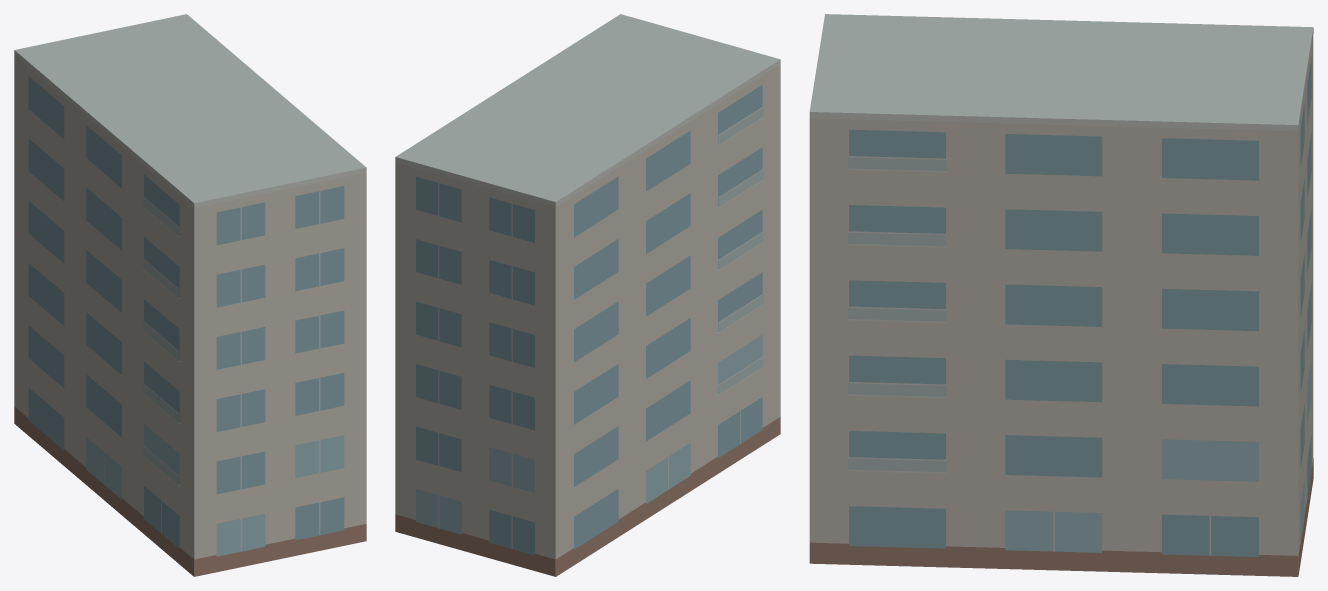
The model's file is survey-upis-32946468.glb.
3 renders of one model, left to right at view 1: azimuth 30°, elevation 25°; view 2: azimuth 150°, elevation 25°; view 3: azimuth 270°, elevation 25°, orthographic. The views are drawn at different scales.
Visible parts, largest first — view 1: survey-upis-32946468.tmp; view 2: survey-upis-32946468.tmp; view 3: survey-upis-32946468.tmp.
Boxes of the visible parts, bbox=[...] form: survey-upis-32946468.tmp: bbox=[14, 14, 366, 576]; survey-upis-32946468.tmp: bbox=[395, 14, 780, 576]; survey-upis-32946468.tmp: bbox=[809, 14, 1313, 576].
Bounding box in the file's own units: 9.51 × 18 × 18.21.
